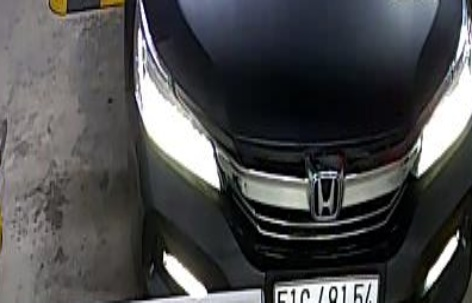plate: (272, 272, 379, 303)
